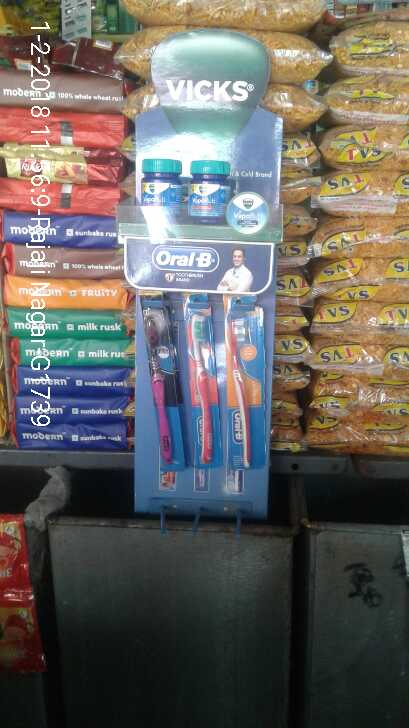pharmacy: (133, 309, 187, 468), (224, 309, 271, 474), (136, 153, 238, 223), (186, 295, 221, 469)
